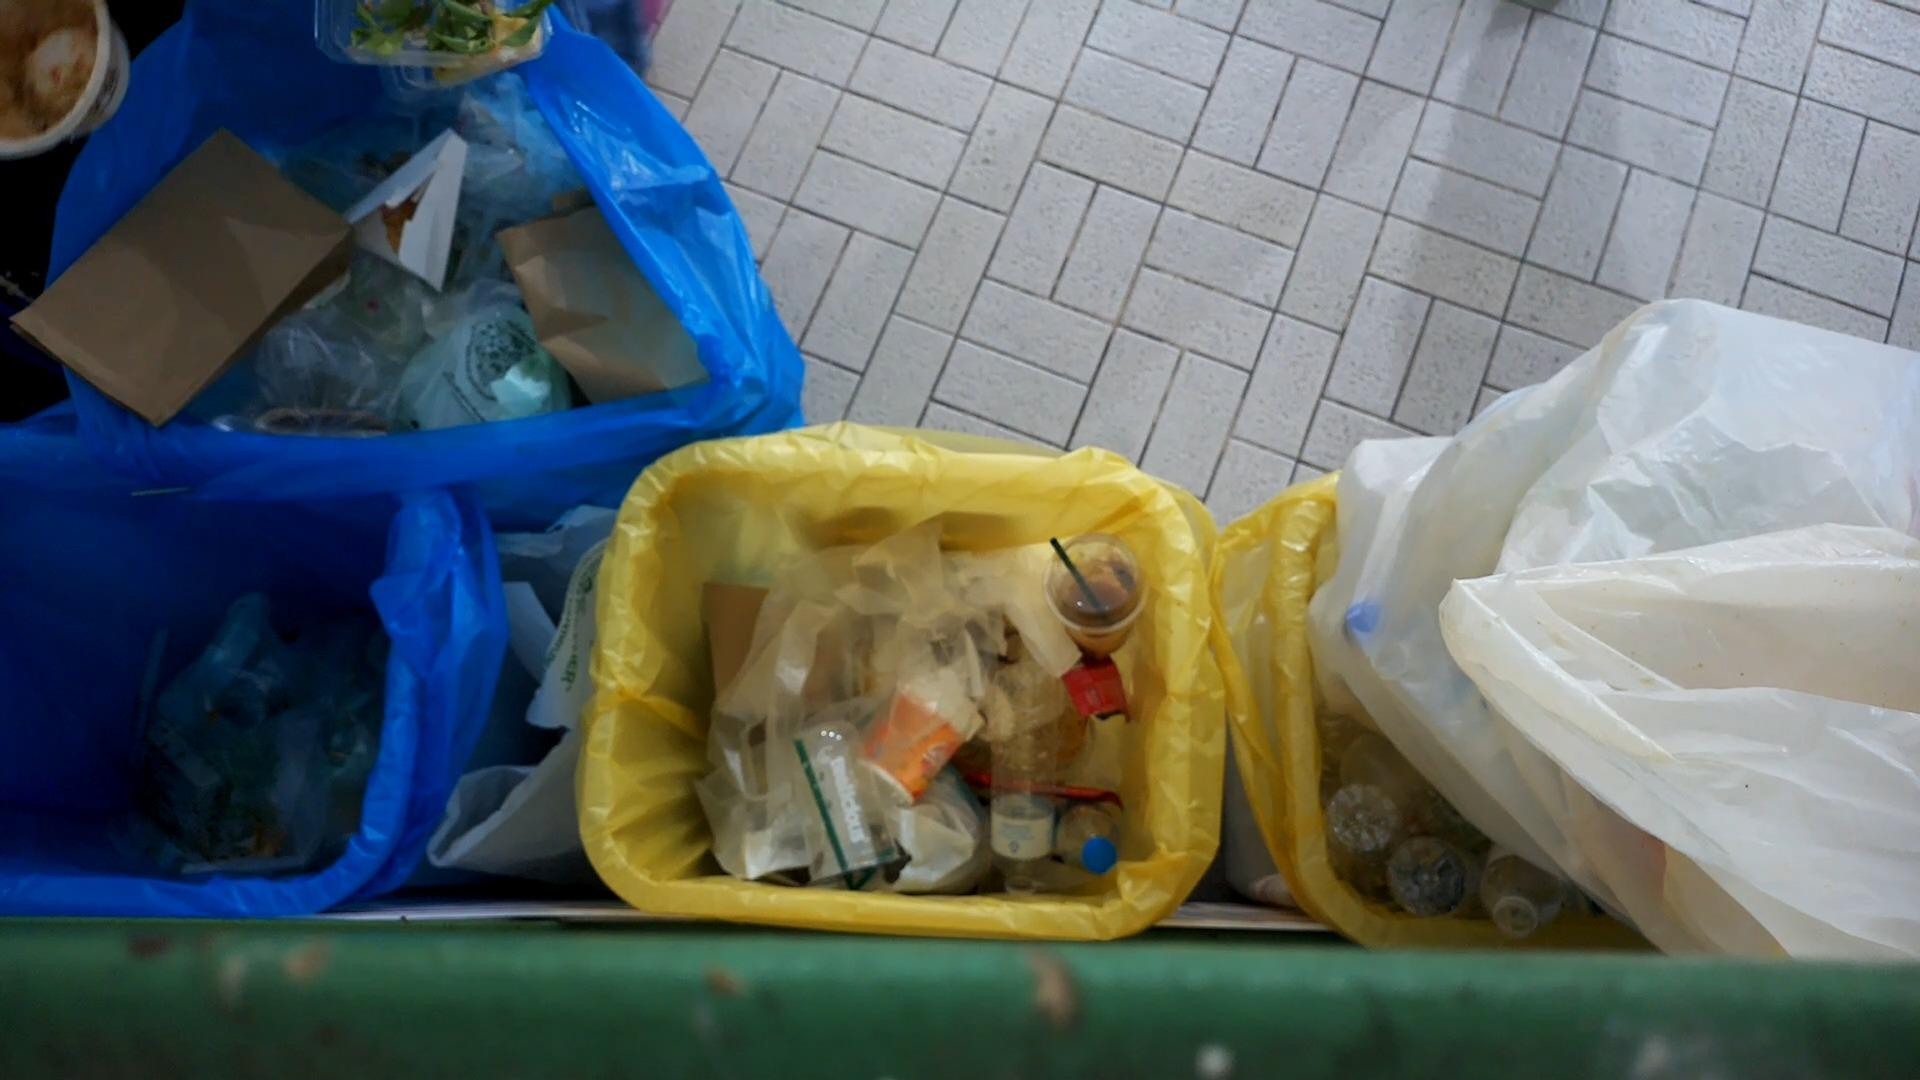dirty food container: (305, 0, 562, 99)
food container: (0, 0, 140, 169)
paper bag: (16, 117, 365, 417), (497, 206, 716, 407), (335, 125, 477, 294)
plastic bag: (735, 550, 1044, 720), (382, 265, 578, 438)
plastic bottle: (988, 665, 1063, 903)
plastic cup: (773, 711, 914, 886), (1043, 531, 1149, 651)
snack packaging: (1060, 653, 1137, 731), (1040, 778, 1125, 823)
straw: (795, 735, 893, 876)
